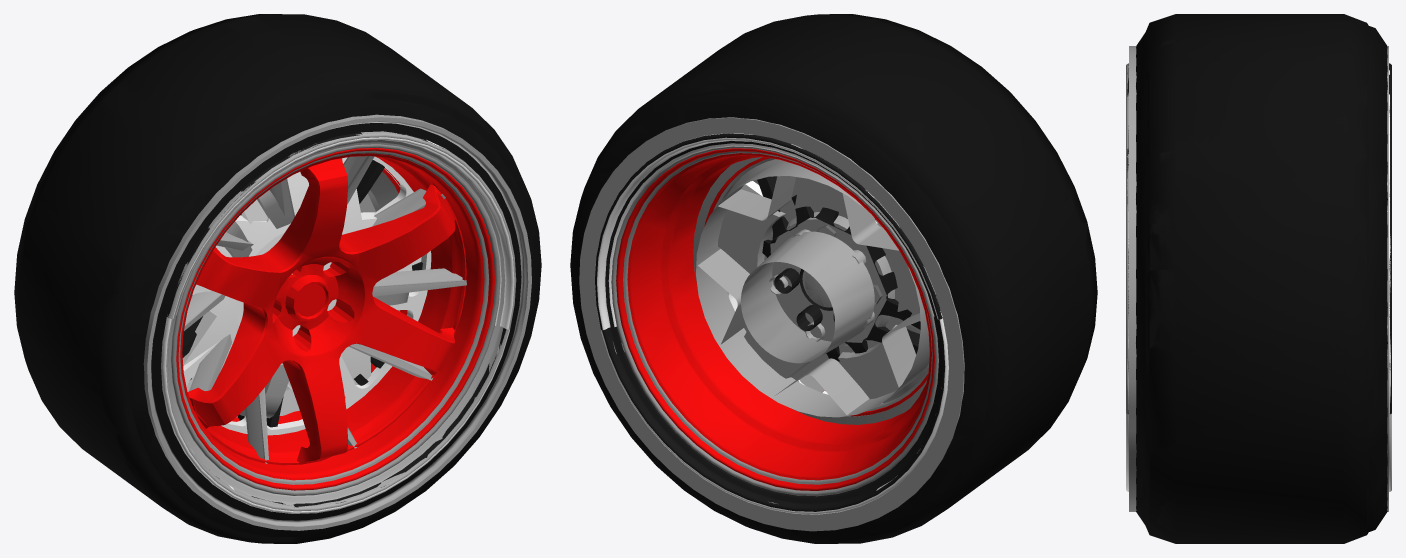
File: WheelPack.FBX
The picture shows the model from 3 angles, left to right: view 1: azimuth 30°, elevation 25°; view 2: azimuth 150°, elevation 25°; view 3: azimuth 270°, elevation 25°; orthographic projection. The views are drawn at different scales.
Visible parts, largest first — view 1: Wheel_5, Wheel_3, Wheel_4, Wheel_6, Wheel_1, Wheel_7, Wheel_2; view 2: Wheel_4, Wheel_6, Wheel_3, Wheel_5, Wheel_1, Wheel_7, Wheel_2; view 3: Wheel_4, Wheel_1, Wheel_3, Wheel_6, Wheel_2.
Boxes of the visible parts, x1,y1,x2,y2 form: Wheel_5: (176, 148, 494, 490); Wheel_3: (19, 14, 541, 543); Wheel_4: (14, 14, 516, 507); Wheel_6: (17, 31, 535, 537); Wheel_1: (18, 16, 524, 543); Wheel_7: (171, 144, 500, 495); Wheel_2: (161, 137, 514, 513); Wheel_4: (570, 14, 1089, 543); Wheel_6: (570, 93, 990, 542); Wheel_3: (613, 14, 1097, 508); Wheel_5: (616, 148, 934, 490); Wheel_1: (588, 19, 1093, 542); Wheel_7: (611, 146, 938, 496); Wheel_2: (597, 137, 948, 514); Wheel_4: (1127, 14, 1391, 534); Wheel_1: (1127, 32, 1390, 543); Wheel_3: (1126, 17, 1389, 538); Wheel_6: (1129, 26, 1388, 531); Wheel_2: (1126, 413, 1391, 491).
Size of the model in its own units: 31099 by 31099 by 15595.
